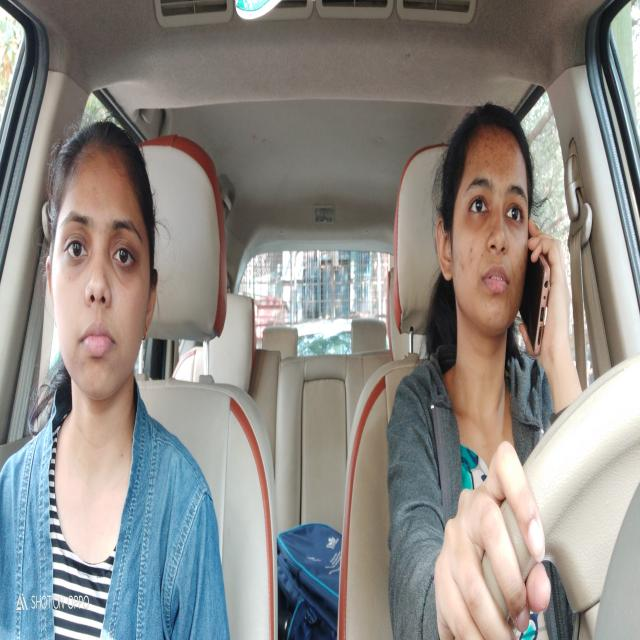mobile: (520, 221, 560, 362)
person: (432, 79, 570, 398), (33, 110, 163, 420)
